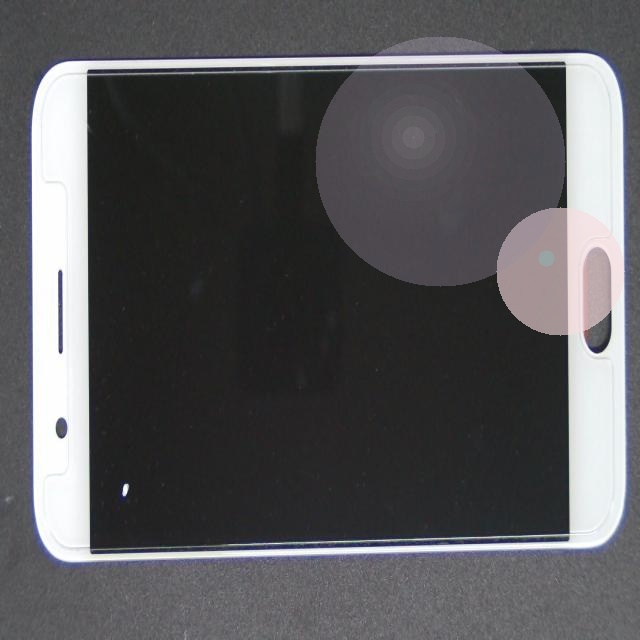stain: (46, 239, 169, 640)
